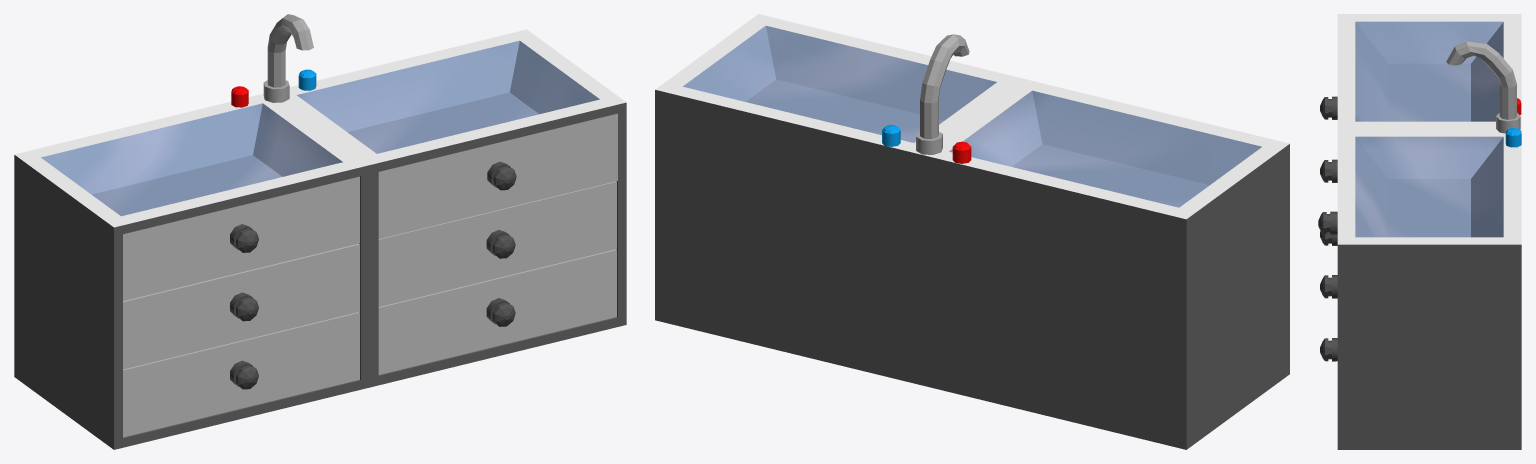
Rendered from Cabinet_Gray_Lower_Double_Sink..fbx.
3 renders of one model, left to right at view 1: azimuth 30°, elevation 25°; view 2: azimuth 150°, elevation 25°; view 3: azimuth 270°, elevation 25°, orthographic. The views are drawn at different scales.
Parts seen in each view (by area): view 1: Cabinet_Gray_Lower_Double_Sink.005, Cabinet_Gray_Lower_Double_Sink, Cabinet_Gray_Lower_Double_Sink.001, Cabinet_Gray_Lower_Double_Sink.002, Cabinet_Gray_Lower_Double_Sink.006, Cabinet_Gray_Lower_Double_Sink., Cabinet_Gray_Lower_Double_Sink.004; view 2: Cabinet_Gray_Lower_Double_Sink.005; view 3: Cabinet_Gray_Lower_Double_Sink.005, Cabinet_Gray_Lower_Double_Sink.006, Cabinet_Gray_Lower_Double_Sink, Cabinet_Gray_Lower_Double_Sink.001, Cabinet_Gray_Lower_Double_Sink.002, Cabinet_Gray_Lower_Double_Sink.004.
Part boxes in pixels (x1,y1,x2,y2): Cabinet_Gray_Lower_Double_Sink.005: (14, 14, 626, 449); Cabinet_Gray_Lower_Double_Sink: (378, 181, 616, 306); Cabinet_Gray_Lower_Double_Sink.001: (378, 249, 616, 374); Cabinet_Gray_Lower_Double_Sink.002: (123, 243, 359, 369); Cabinet_Gray_Lower_Double_Sink.006: (378, 113, 617, 238); Cabinet_Gray_Lower_Double_Sink.: (123, 312, 359, 437); Cabinet_Gray_Lower_Double_Sink.004: (123, 176, 359, 300); Cabinet_Gray_Lower_Double_Sink.005: (655, 14, 1289, 449); Cabinet_Gray_Lower_Double_Sink.005: (1337, 14, 1521, 449); Cabinet_Gray_Lower_Double_Sink.006: (1318, 211, 1337, 234); Cabinet_Gray_Lower_Double_Sink: (1320, 275, 1337, 298); Cabinet_Gray_Lower_Double_Sink.001: (1320, 338, 1337, 361); Cabinet_Gray_Lower_Double_Sink.002: (1320, 159, 1337, 182); Cabinet_Gray_Lower_Double_Sink.004: (1320, 96, 1337, 119).
Bounding box in the file's own units: 200 × 118 × 74.55.
